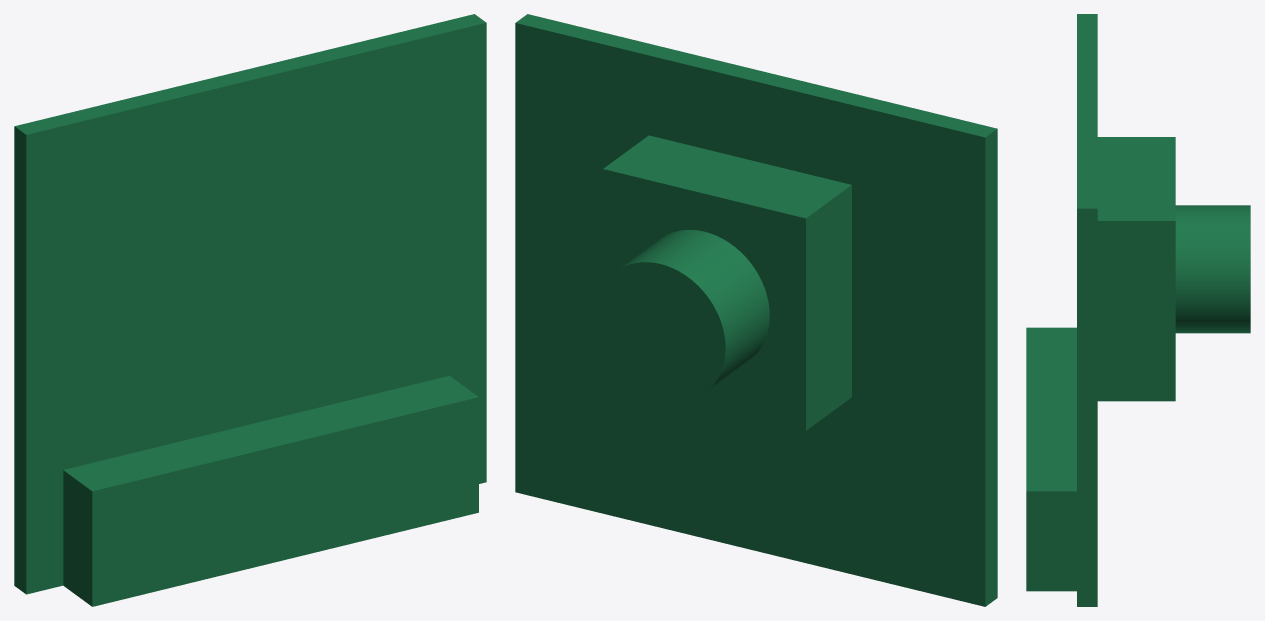
Rendered from camera.glb.
3 views of the same model, side by side, from view 1: azimuth 30°, elevation 25°; view 2: azimuth 150°, elevation 25°; view 3: azimuth 270°, elevation 25° (orthographic). The views are drawn at different scales.
Parts seen in each view (by area): view 1: camera; view 2: camera; view 3: camera.
Boxes of the visible parts, x1=… form: camera: x1=14, y1=14, x2=486, y2=606; camera: x1=515, y1=14, x2=997, y2=606; camera: x1=1026, y1=14, x2=1250, y2=606.
Size of the model in its own units: 0.025 by 0.0239 by 0.0122.
